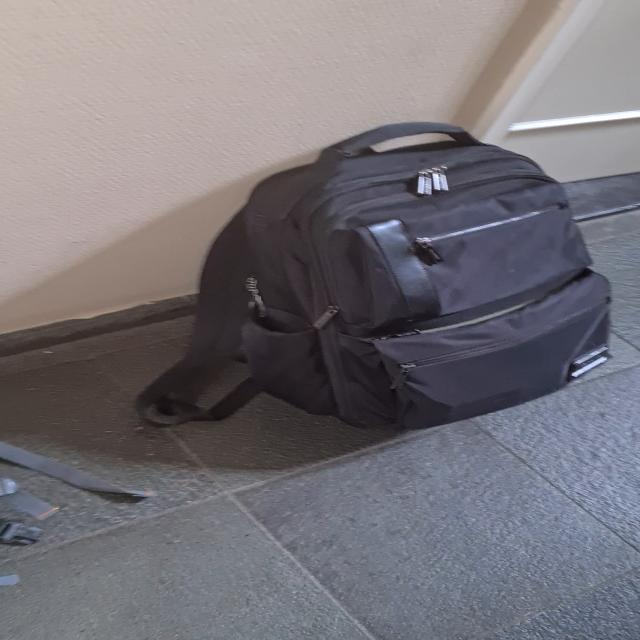backpack: (175, 116, 640, 442)
